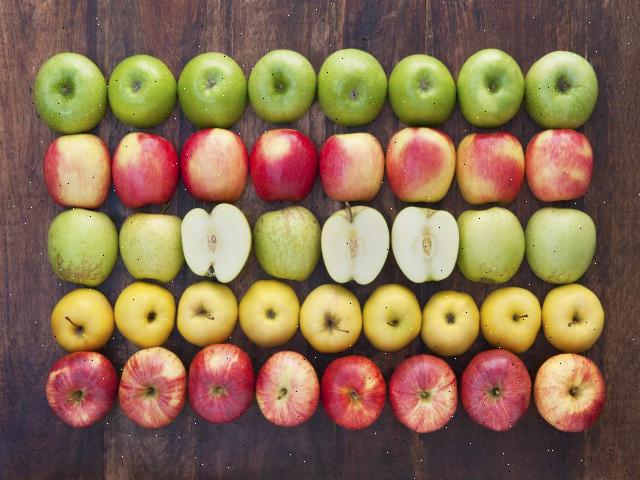apple: (32, 51, 107, 134), (460, 348, 531, 432), (532, 354, 606, 434), (524, 50, 598, 129), (387, 353, 457, 434), (118, 347, 188, 428), (44, 208, 118, 283), (384, 125, 456, 202), (524, 206, 596, 283), (46, 350, 118, 427), (317, 46, 387, 125), (110, 132, 181, 209), (455, 205, 525, 282), (179, 126, 248, 204), (188, 343, 255, 423), (180, 205, 251, 280), (456, 47, 524, 125), (322, 206, 390, 284), (248, 48, 316, 125), (456, 130, 525, 205), (178, 51, 246, 127), (391, 206, 459, 282), (524, 128, 593, 202), (44, 133, 112, 208), (386, 53, 455, 126), (108, 54, 176, 128), (248, 128, 316, 202), (255, 204, 321, 280), (321, 354, 386, 429), (255, 351, 320, 425), (318, 132, 386, 200), (119, 213, 185, 282)
